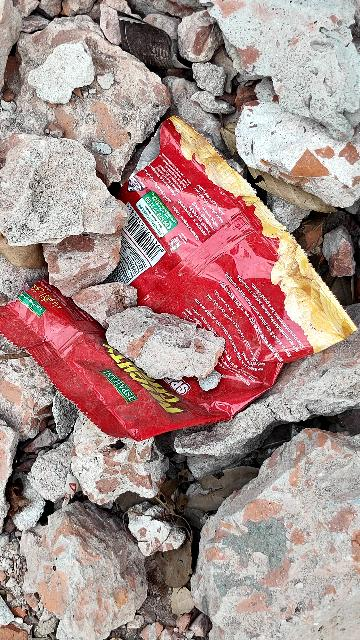packet: (0, 112, 354, 491)
